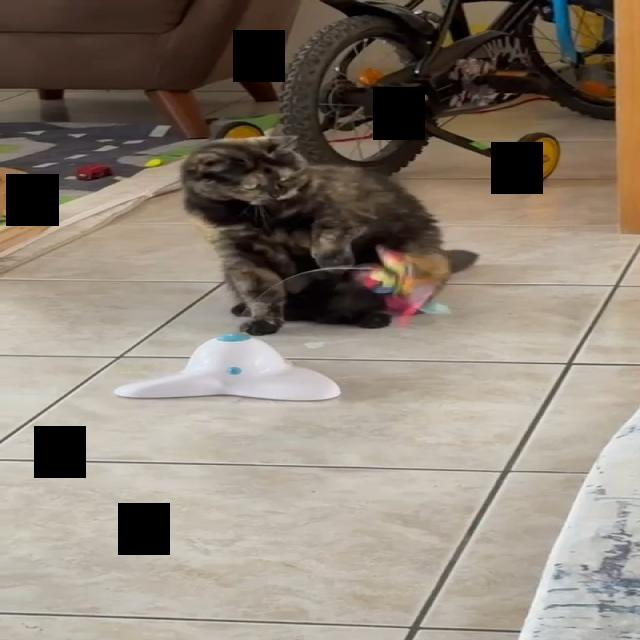authorized: (179, 134, 477, 336)
